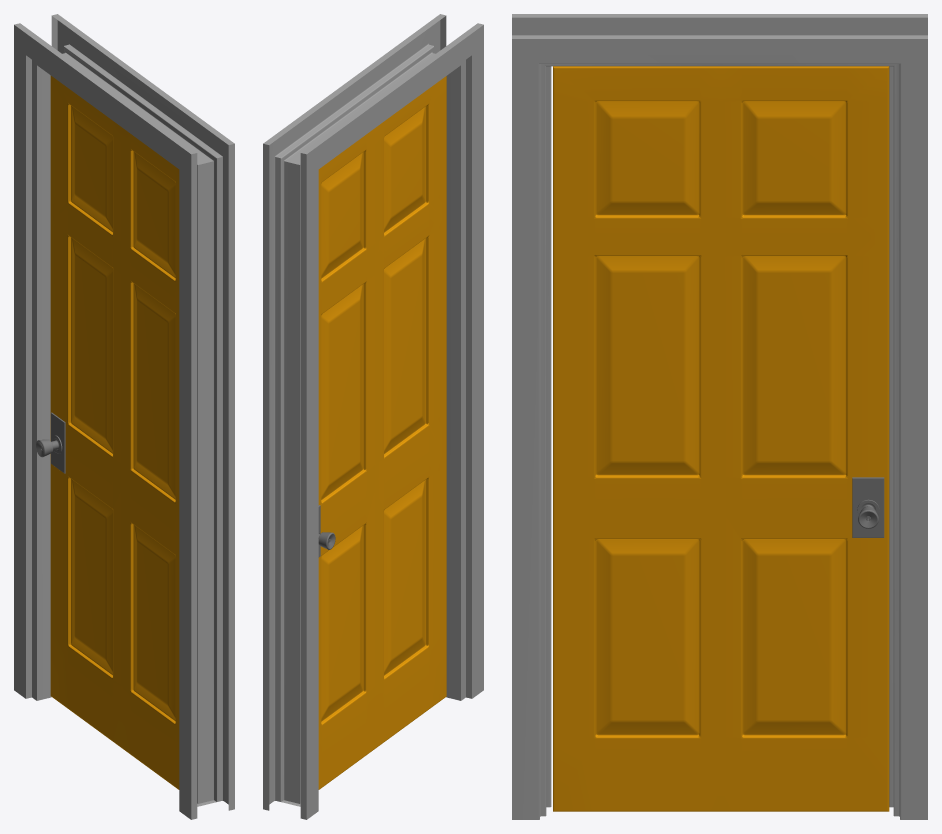
The model's file is Door.fbx.
3 views of the same model, side by side, from view 1: azimuth 30°, elevation 25°; view 2: azimuth 150°, elevation 25°; view 3: azimuth 270°, elevation 25° (orthographic). The views are drawn at different scales.
Parts seen in each view (by area): view 1: group7, polySurface3; view 2: group7, polySurface3; view 3: group7, polySurface3.
Boxes of the visible parts, x1,y1,x2,y2 form: group7: [36, 75, 179, 789]; polySurface3: [14, 14, 234, 819]; group7: [318, 76, 446, 789]; polySurface3: [263, 14, 483, 819]; group7: [553, 66, 889, 811]; polySurface3: [512, 14, 927, 819].
Size of the model in its own units: 17.24 by 211 by 102.
